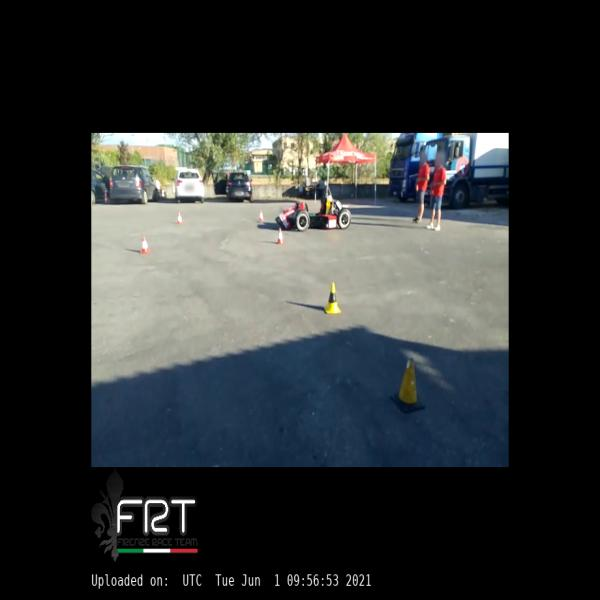large_orange_cone: (103, 189, 110, 204)
orange_cone: (139, 235, 151, 254), (276, 228, 284, 245), (175, 212, 184, 224), (258, 211, 265, 222)
unknown_cone: (390, 358, 425, 414)
yellow_cone: (323, 283, 342, 313)
